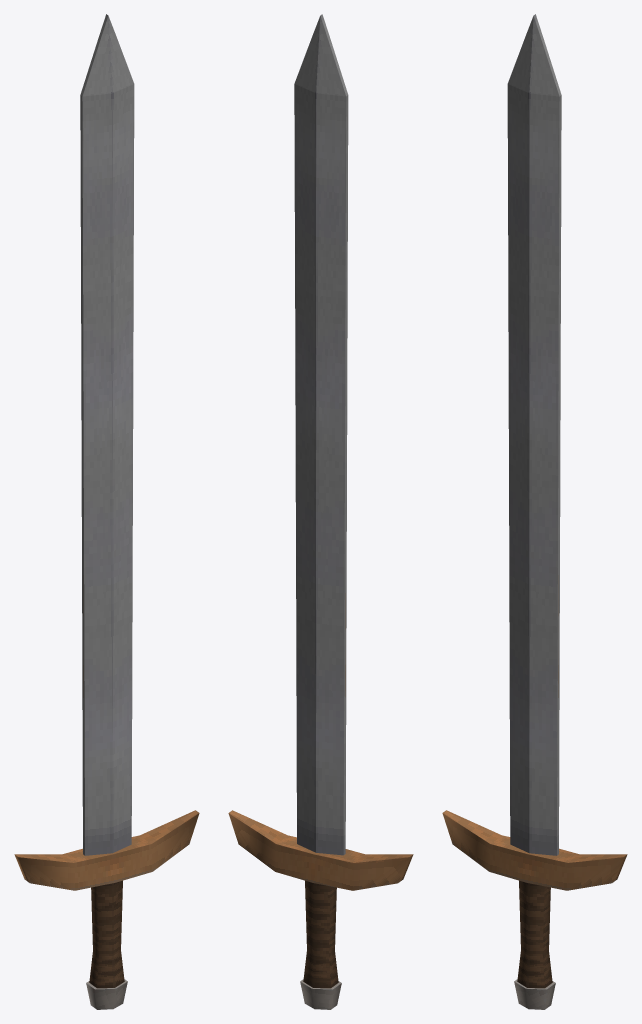
The model's file is sword.glb.
The picture shows the model from 3 angles, left to right: view 1: azimuth 30°, elevation 25°; view 2: azimuth 150°, elevation 25°; view 3: azimuth 330°, elevation 25°; orthographic projection.
Parts seen in each view (by area): view 1: sword; view 2: sword; view 3: sword.
Part boxes in pixels (x1,y1,x2,y2): sword: [14, 14, 199, 1009]; sword: [228, 14, 413, 1009]; sword: [442, 14, 627, 1009].
Size of the model in its own units: 0.1996 by 1.04 by 0.0342.
Materials: 2 (2 with a texture image).
